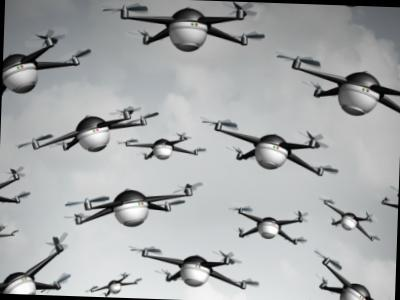drone: (267, 47, 400, 123), (63, 174, 211, 235), (115, 0, 268, 57), (22, 98, 156, 163), (199, 115, 337, 177), (2, 20, 98, 103), (128, 246, 266, 294), (0, 236, 78, 295), (311, 253, 395, 300), (116, 126, 209, 166), (227, 204, 310, 245), (320, 197, 378, 243), (85, 268, 146, 298)
